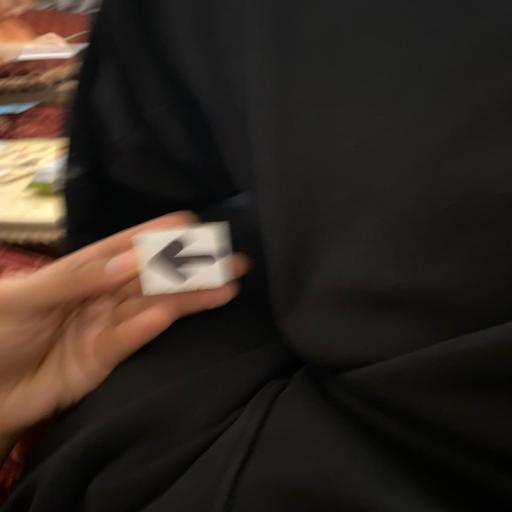Back: (128, 218, 240, 298)
